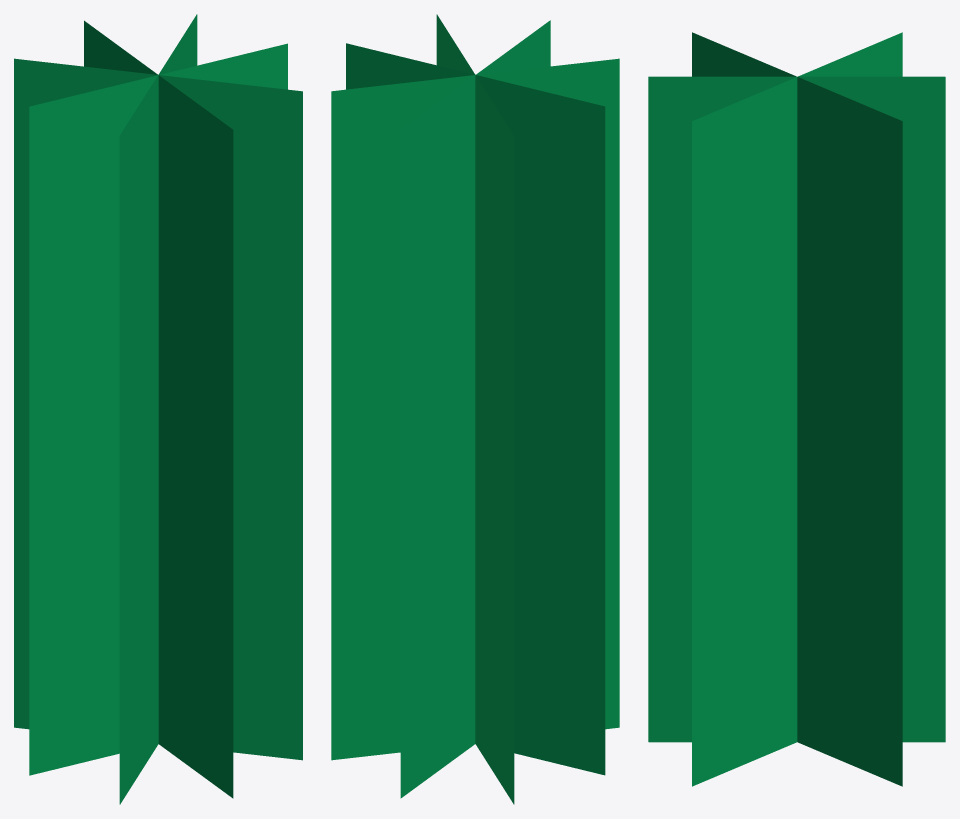
3 renders of one model, left to right at view 1: azimuth 30°, elevation 25°; view 2: azimuth 150°, elevation 25°; view 3: azimuth 270°, elevation 25°, orthographic.
Visible parts, largest first — view 1: Plane002; view 2: Plane002; view 3: Plane002.
Part boxes in pixels (box(x1,y1,x2,y2)): Plane002: box(14, 14, 302, 804); Plane002: box(331, 14, 619, 804); Plane002: box(648, 32, 945, 786).
Bounding box in the file's own units: 18.01 × 44.46 × 18.02.
